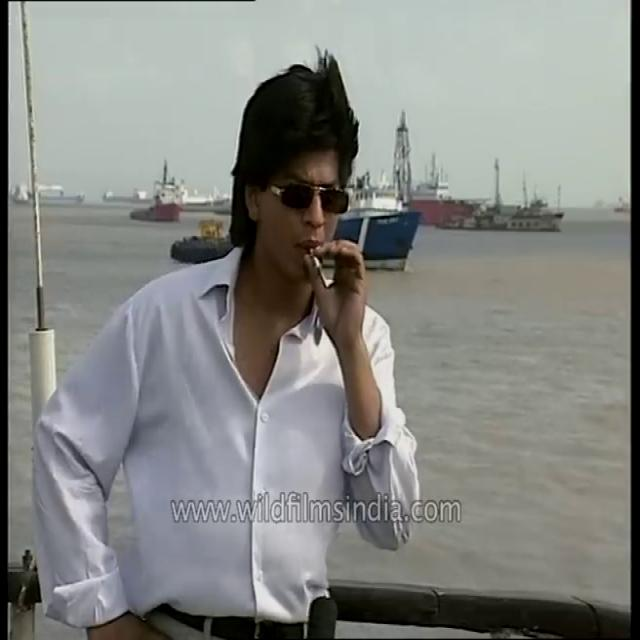Smooking: (309, 245, 327, 278)
